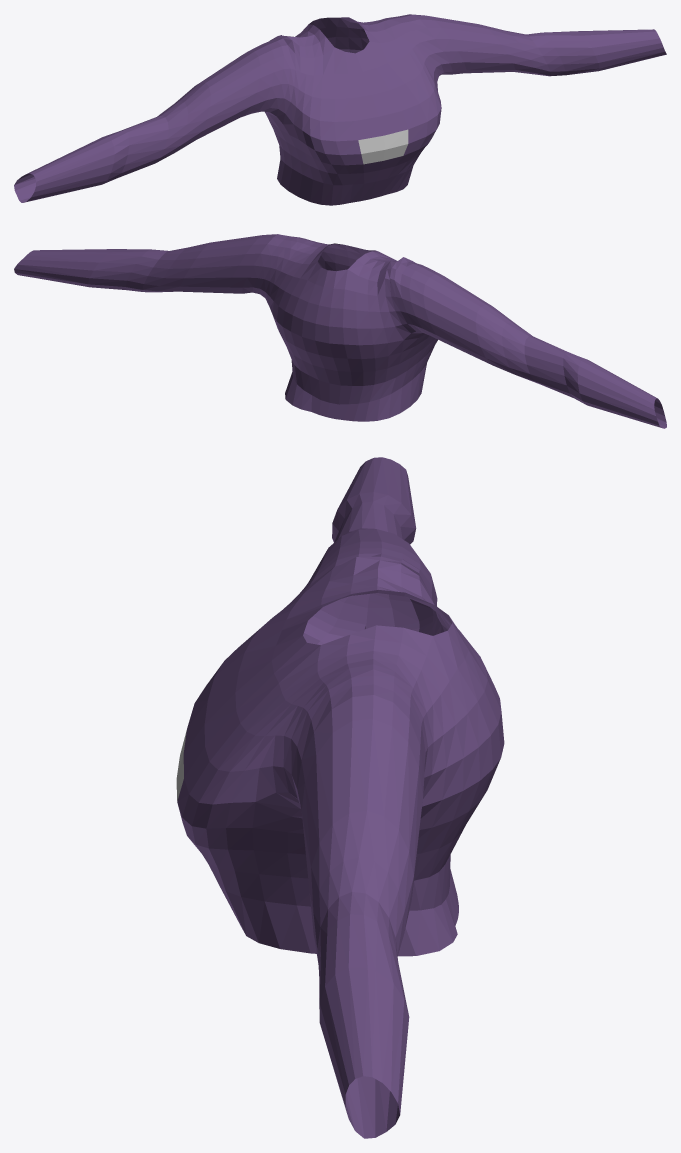
Rendered from pirple jordan shirt.fbx.
3 renders of one model, top to bottom at view 1: azimuth 30°, elevation 25°; view 2: azimuth 150°, elevation 25°; view 3: azimuth 270°, elevation 25°, orthographic. The views are drawn at different scales.
Parts seen in each view (by area): view 1: polySurface7; view 2: polySurface7; view 3: polySurface7.
Boxes of the visible parts, x1,y1,x2,y2 form: polySurface7: (14,14,666,205); polySurface7: (14,234,666,428); polySurface7: (176,457,504,1138).
Size of the model in its own units: 21.12 by 4.79 by 4.67.
